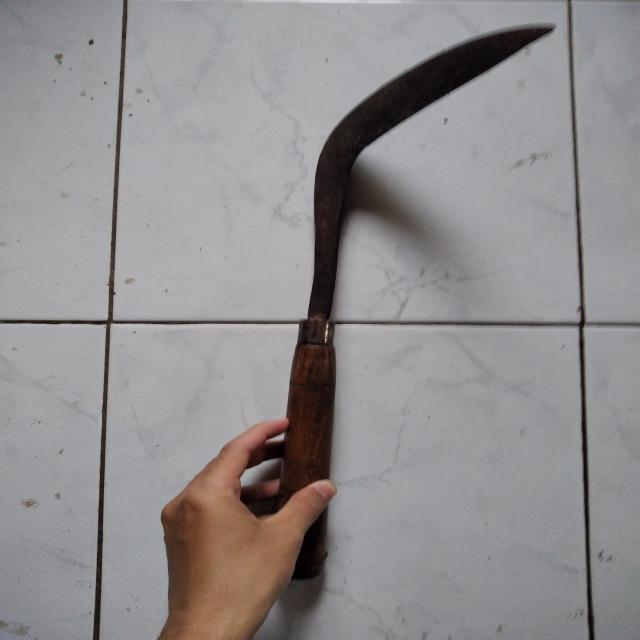Celurit: (276, 24, 559, 586)
